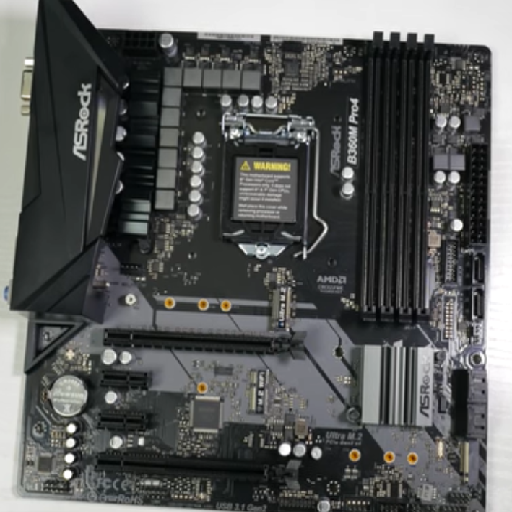CPU: (214, 107, 326, 268)
GPU: (92, 445, 304, 495), (91, 322, 310, 367)
MOTHERBOARD: (1, 2, 496, 512)
RAM: (351, 29, 439, 328)
SSD: (263, 268, 299, 333), (244, 366, 277, 417)
